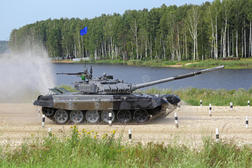t72: (34, 65, 226, 123)
